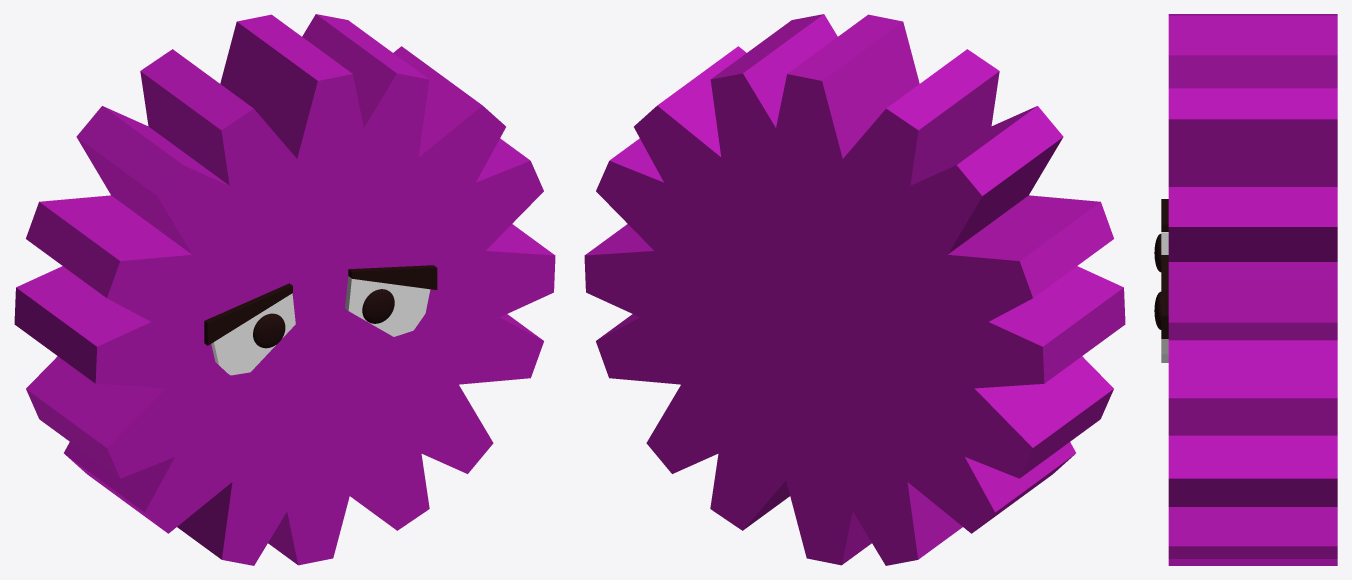
File: germ_3.fbx
3 renders of one model, left to right at view 1: azimuth 30°, elevation 25°; view 2: azimuth 150°, elevation 25°; view 3: azimuth 270°, elevation 25°, orthographic. The views are drawn at different scales.
Visible parts, largest first — view 1: 개체_7, 개체_4, 개체_3, 개체_1, 개체_6, 개체_2, 개체_5; view 2: 개체_7; view 3: 개체_7, 개체_6, 개체_1, 개체_2, 개체_5.
Part boxes in pixels (<box>): 개체_7: <box>14,14,555,565</box>; 개체_4: <box>345,276,430,336</box>; 개체_3: <box>211,293,295,375</box>; 개체_1: <box>204,283,292,345</box>; 개체_6: <box>348,265,437,289</box>; 개체_2: <box>253,313,285,348</box>; 개체_5: <box>362,289,394,323</box>; 개체_7: <box>584,14,1125,565</box>; 개체_7: <box>1168,14,1337,565</box>; 개체_6: <box>1161,255,1168,338</box>; 개체_1: <box>1161,199,1168,231</box>; 개체_2: <box>1154,234,1161,272</box>; 개체_5: <box>1154,291,1161,329</box>.
Bounding box in the file's own units: 13.13 × 4.35 × 13.13.
